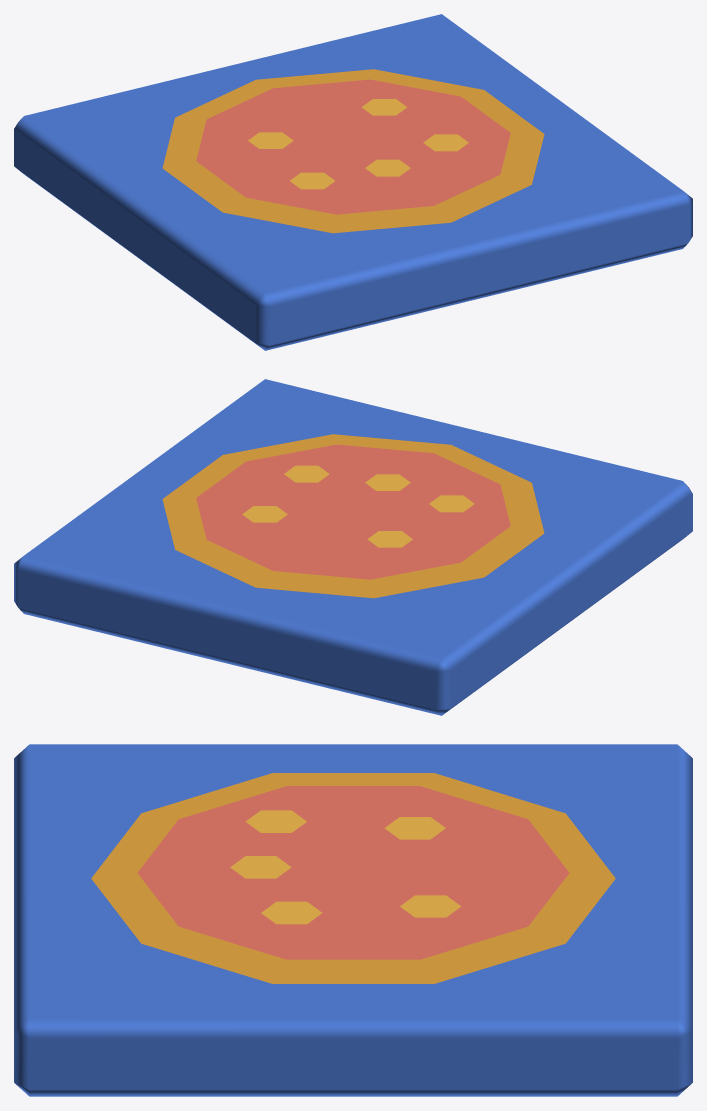
Rendered from CM_Product_FrozenPizza.fbx.
3 renders of one model, top to bottom at view 1: azimuth 30°, elevation 25°; view 2: azimuth 150°, elevation 25°; view 3: azimuth 270°, elevation 25°, orthographic. The views are drawn at different scales.
Parts seen in each view (by area): view 1: FrozenPizza; view 2: FrozenPizza; view 3: FrozenPizza.
Part boxes in pixels (bbox=[...]): FrozenPizza: bbox=[14, 14, 692, 350]; FrozenPizza: bbox=[14, 379, 692, 715]; FrozenPizza: bbox=[14, 744, 692, 1096].
Bounding box in the file's own units: 2.2 × 2.2 × 0.33.
1 material, 1 textured.
